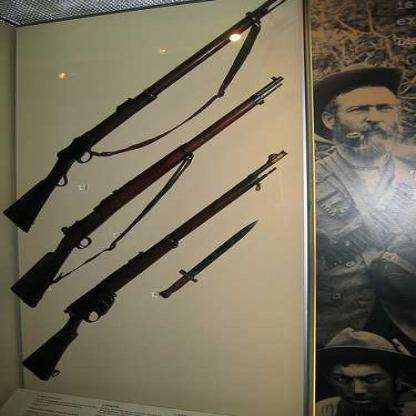Heavy Gun: (11, 74, 289, 308), (0, 0, 284, 229), (29, 144, 284, 378)
